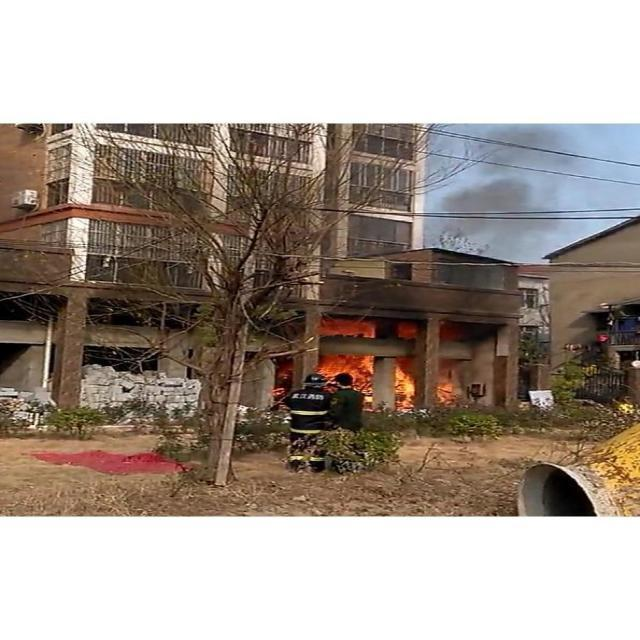Fire: (318, 352, 374, 412), (394, 360, 416, 412), (434, 380, 452, 405)
Smoke: (432, 122, 590, 255)
